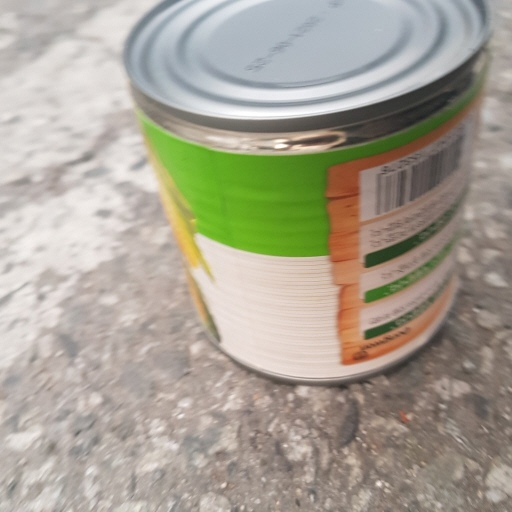Metal_1: (123, 1, 491, 382)
